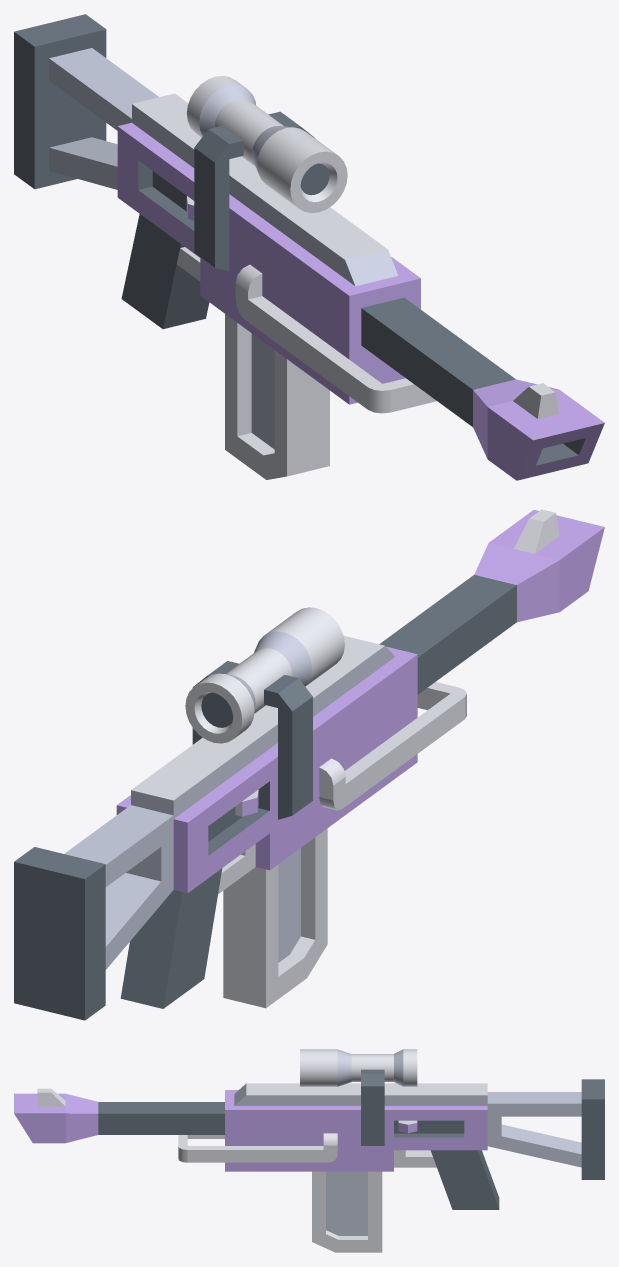
The model's file is blasterF.glb.
The picture shows the model from 3 angles, top to bottom: view 1: azimuth 30°, elevation 25°; view 2: azimuth 150°, elevation 25°; view 3: azimuth 270°, elevation 25°; orthographic projection. The views are drawn at different scales.
Visible parts, largest first — view 1: blasterF; view 2: blasterF; view 3: blasterF.
Part boxes in pixels (x1,y1,x2,y2): blasterF: (14,14,604,480); blasterF: (14,509,604,1020); blasterF: (14,1049,604,1252).
Size of the model in its own units: 0.14 by 0.46 by 1.26.
